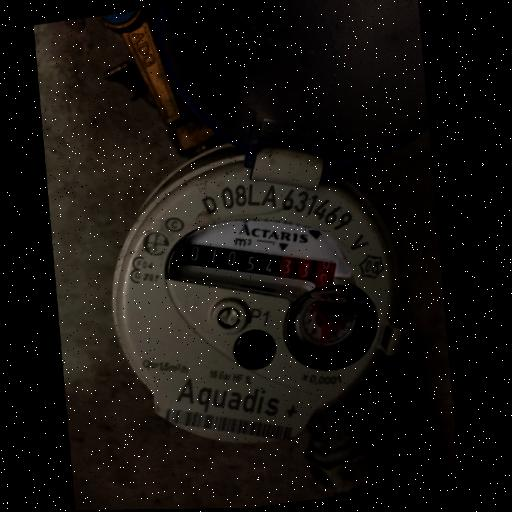0: (182, 241, 206, 268), (221, 246, 243, 273)
1: (204, 245, 226, 270)
3: (277, 255, 297, 280), (295, 257, 315, 282)
4: (259, 252, 281, 278)
5: (240, 249, 264, 276)
9: (314, 259, 339, 292)
border_water_meter_number: (175, 222, 341, 311)
